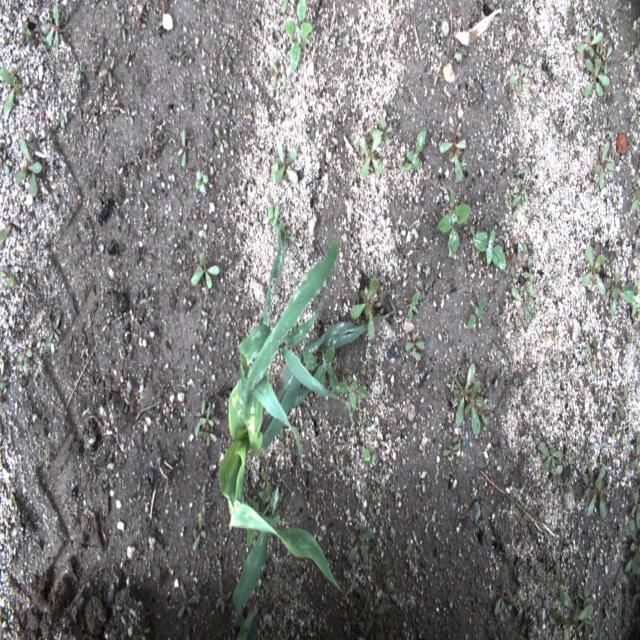crop: (219, 221, 392, 591), (231, 489, 280, 639)
weed: (449, 362, 484, 436), (438, 188, 472, 258), (302, 346, 346, 396), (284, 0, 312, 74), (603, 262, 639, 319), (350, 276, 379, 340), (439, 124, 468, 185), (15, 138, 42, 196), (472, 229, 506, 270), (40, 4, 69, 52), (359, 129, 386, 179), (581, 244, 605, 296), (399, 127, 426, 173), (333, 380, 371, 412), (584, 57, 612, 100), (584, 464, 606, 518), (190, 252, 219, 292), (0, 66, 23, 116), (347, 525, 374, 566), (562, 590, 594, 624), (275, 141, 299, 184), (594, 141, 615, 190), (538, 441, 563, 477), (511, 169, 528, 220), (626, 519, 640, 579), (176, 583, 198, 621), (467, 294, 488, 330), (576, 32, 604, 59), (44, 311, 62, 352), (510, 287, 530, 323), (552, 559, 568, 604), (371, 116, 394, 147), (521, 254, 537, 295), (509, 64, 530, 94), (494, 585, 514, 616), (246, 502, 259, 549), (98, 56, 115, 90), (405, 332, 424, 362), (614, 383, 630, 418), (192, 513, 206, 552), (576, 584, 596, 610), (194, 398, 206, 439), (115, 10, 130, 42), (199, 424, 218, 448), (258, 491, 282, 510), (16, 350, 32, 378), (407, 292, 421, 323), (253, 212, 270, 236), (177, 130, 187, 170), (547, 613, 563, 638), (217, 580, 228, 615), (586, 346, 598, 378), (630, 493, 640, 530), (586, 12, 600, 38), (214, 127, 229, 150), (608, 402, 623, 424), (632, 431, 640, 472), (0, 266, 14, 289), (206, 87, 220, 110), (199, 406, 213, 428), (196, 170, 208, 195), (606, 16, 617, 40), (604, 44, 612, 76), (557, 76, 572, 93), (278, 438, 292, 456), (268, 206, 279, 227), (261, 470, 271, 491), (0, 153, 9, 175)
